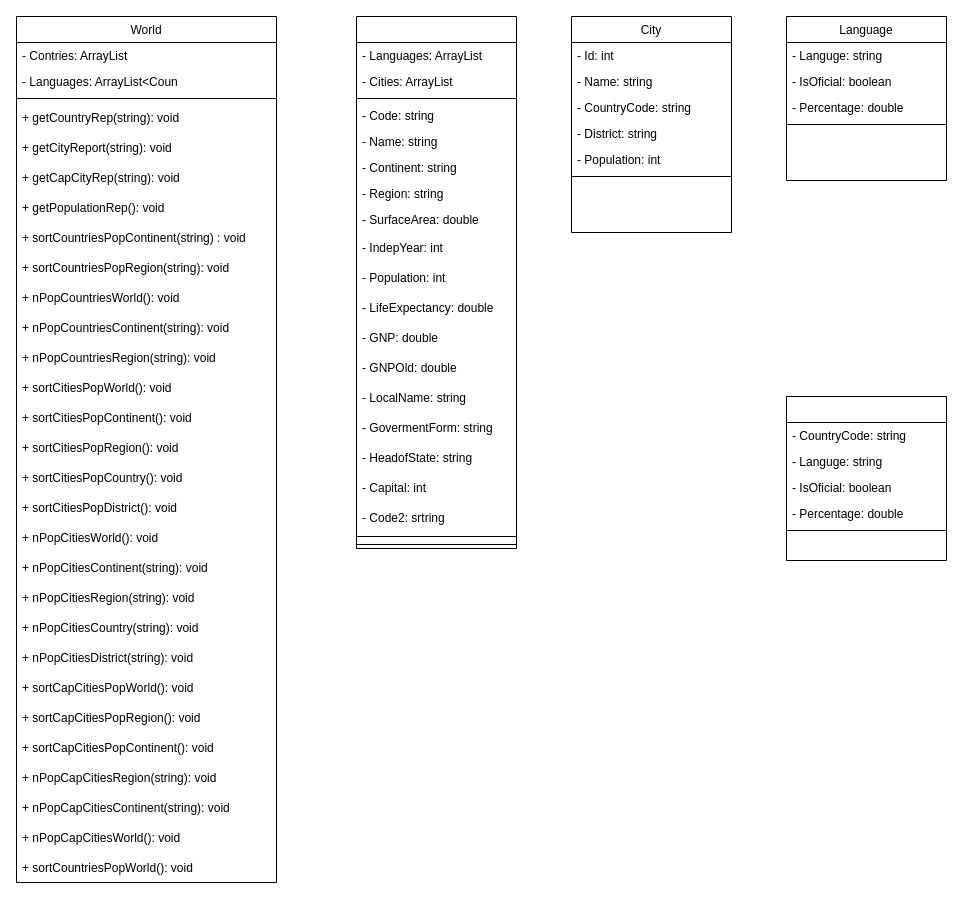
This 963x899 diagram has some shape labels left out. Each missing label, with the box of its shape:
Country: (356, 16, 516, 548)
CountryLanguage: (786, 396, 946, 560)
